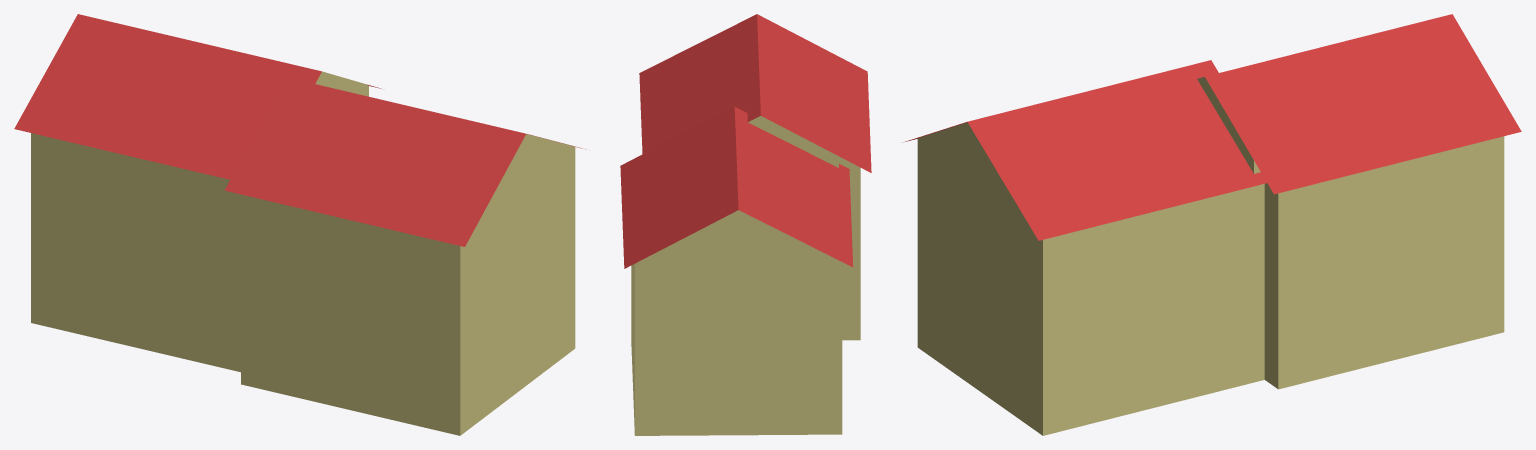
The picture shows the model from 3 angles, left to right: view 1: azimuth 30°, elevation 25°; view 2: azimuth 150°, elevation 25°; view 3: azimuth 270°, elevation 25°; orthographic projection. The views are drawn at different scales.
Bounding box in the file's own units: 29.06 × 36.85 × 17.74.
